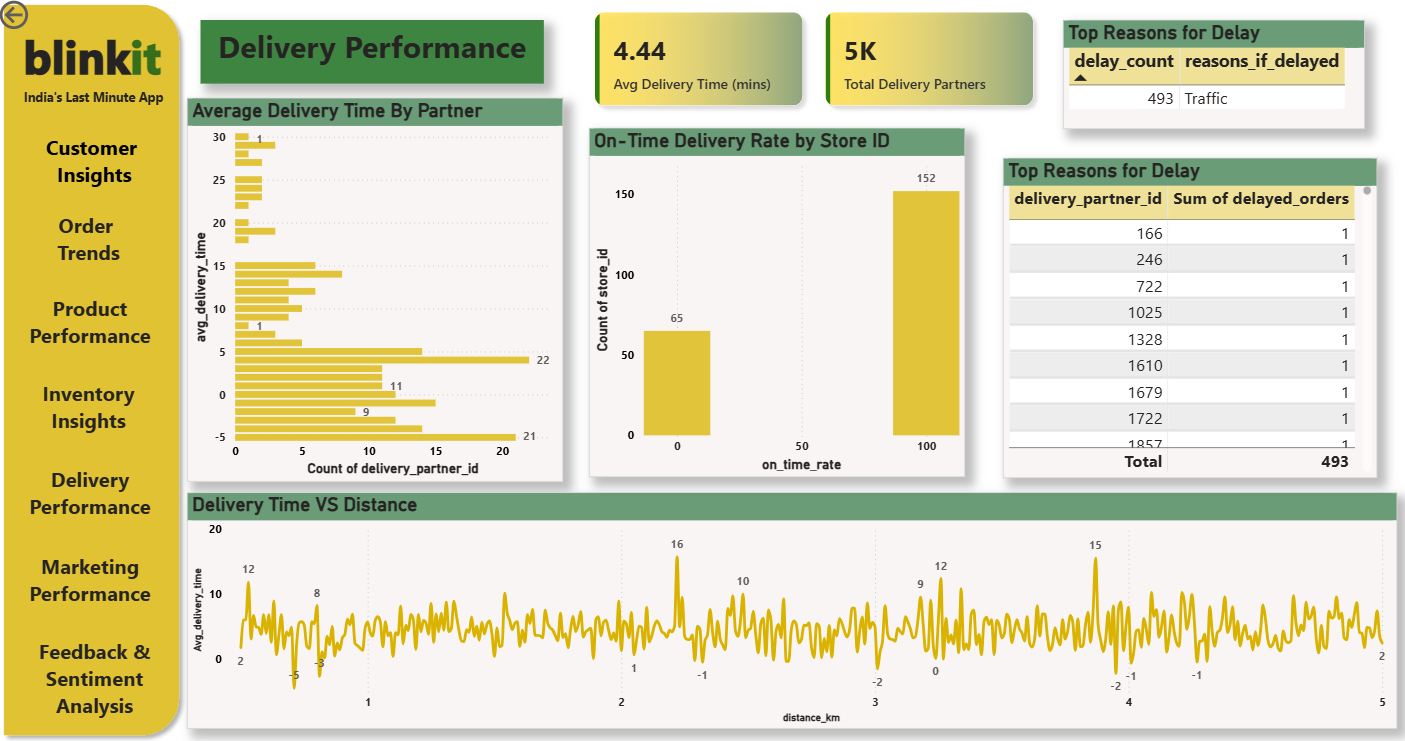

What the dashboard file says about the page in this screenshot:
{"tool":"powerbi","page":{"name":"Delivery Performance","canvas":[1500,800],"ordinal":4},"visuals":[{"type":"shape","box":[0,0,204.1,791.4],"z":0},{"type":"textbox","box":[16,24.8,173.9,74.5],"z":1000},{"type":"textbox","box":[19.5,92.3,170.3,30.2],"z":2000},{"type":"textbox","box":[7.1,140.2,191.6,81.6],"z":3000},{"type":"actionButton","box":[8.9,134.9,186.3,81.6],"z":4000},{"type":"textbox","box":[3.5,221.8,191.6,71],"z":5000},{"type":"actionButton","box":[8.9,221.8,186.3,71],"z":6000},{"type":"textbox","box":[5.3,308.8,191.6,71],"z":7000},{"type":"actionButton","box":[10.6,308.8,188.1,71],"z":8000},{"type":"textbox","box":[3.5,399.3,191.6,71],"z":9000},{"type":"actionButton","box":[5.3,404.6,189.9,65.7],"z":10000},{"type":"textbox","box":[5.3,489.8,191.6,71],"z":11000},{"type":"actionButton","box":[7.1,489.8,186.3,71],"z":12000},{"type":"textbox","box":[5.3,582,191.6,71],"z":13000},{"type":"actionButton","box":[7.1,582,186.3,71],"z":14000},{"type":"textbox","box":[8.9,672.5,191.6,99.4],"z":15000},{"type":"actionButton","box":[9.3,672.2,188.9,100],"z":16000},{"type":"textbox","box":[217.3,25,363.5,67.3],"z":17000},{"type":"cardVisual","fields":{"Data":["blinkit delivery_performance.Avg Delivery Time (mins)","blinkit delivery_performance.Total Delivery Partners"]},"box":[618.2,0,498.5,133.3],"z":18000},{"type":"barChart","title":"Average Delivery Time By Partner","fields":{"Category":["blinkit avg_delivery_time_by_partner.avg_delivery_time"],"Y":["Count(blinkit avg_delivery_time_by_partner.delivery_partner_id)"]},"box":[203.8,107.7,398.1,405.8],"z":19000},{"type":"tableEx","title":"Top Reasons for Delay","fields":{"Values":["blinkit top_delay_reasons.delay_count","blinkit top_delay_reasons.reasons_if_delayed"]},"box":[1130.8,25,319.2,115.4],"z":20000},{"type":"lineChart","title":"Delivery Time VS Distance","fields":{"Category":["blinkit delivery_time_vs_distance.distance_km"],"Y":["Avg(blinkit delivery_time_vs_distance.avg_delivery_time)"]},"box":[203.8,525,1280.8,250],"z":21000},{"type":"columnChart","title":"On-Time Delivery Rate by Store ID","fields":{"Category":["blinkit ontime_delivery_by_store.oo_time_rate"],"Y":["CountNonNull(blinkit ontime_delivery_by_store.store_id)"]},"box":[628.8,140.4,398.1,369.2],"z":22000},{"type":"tableEx","title":"Top Reasons for Delay","fields":{"Values":["blinkit late_deliveries_by_partner.delivery_partner_id","Sum(blinkit late_deliveries_by_partner.delayed_orders)"]},"box":[1067.3,171.2,396.2,338.5],"z":23000},{"type":"actionButton","box":[0,0,100,40],"z":24000}]}

Visuals, with their boxes in screenshot pixels (x1, y1, x2, y2), scaled from the page's 1500x800 canvas onto the 1405x741 screenshot:
shape: [0, 0, 191, 733]
textbox: [15, 23, 178, 92]
textbox: [18, 85, 178, 113]
textbox: [7, 130, 186, 205]
actionButton: [8, 125, 183, 201]
textbox: [3, 205, 183, 271]
actionButton: [8, 205, 183, 271]
textbox: [5, 286, 184, 352]
actionButton: [10, 286, 186, 352]
textbox: [3, 370, 183, 436]
actionButton: [5, 375, 183, 436]
textbox: [5, 454, 184, 519]
actionButton: [7, 454, 181, 519]
textbox: [5, 539, 184, 605]
actionButton: [7, 539, 181, 605]
textbox: [8, 623, 188, 715]
actionButton: [9, 623, 186, 715]
textbox: [204, 23, 544, 85]
cardVisual - blinkit delivery_performance.Avg Delivery Time (mins) x blinkit delivery_performance.Total Delivery Partners: [579, 0, 1046, 123]
"Average Delivery Time By Partner" barChart: [191, 100, 564, 476]
"Top Reasons for Delay" tableEx: [1059, 23, 1358, 130]
"Delivery Time VS Distance" lineChart: [191, 486, 1391, 718]
"On-Time Delivery Rate by Store ID" columnChart: [589, 130, 962, 472]
"Top Reasons for Delay" tableEx: [1000, 159, 1371, 472]
actionButton: [0, 0, 94, 37]
